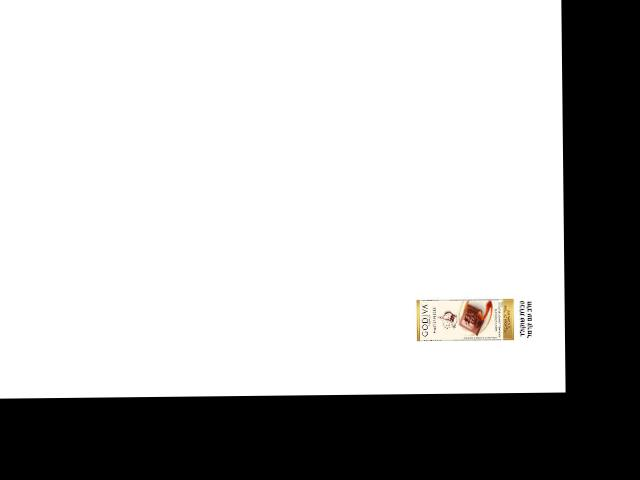chocolate: (414, 295, 517, 340)
